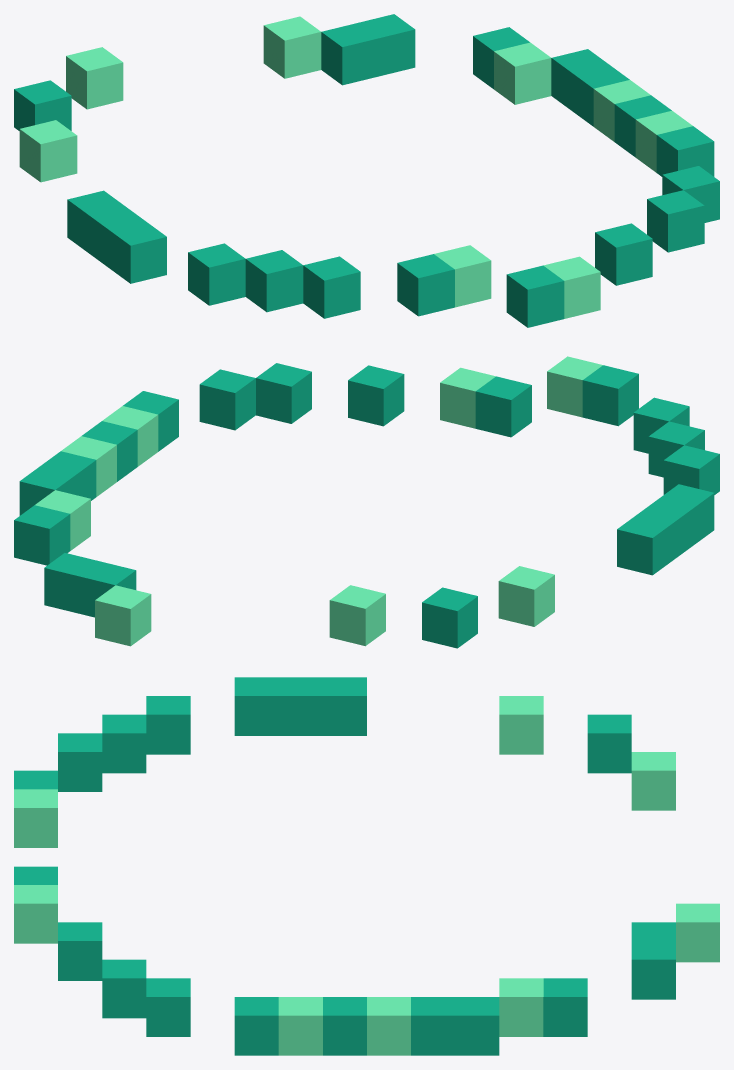
The model's file is anelsaturno-verde2.obj.
3 renders of one model, top to bottom at view 1: azimuth 30°, elevation 25°; view 2: azimuth 150°, elevation 25°; view 3: azimuth 270°, elevation 25°, orthographic. The views are drawn at different scales.
Bounding box in the file's own units: 1.6 × 0.2 × 1.6.
1 material, 1 textured.
